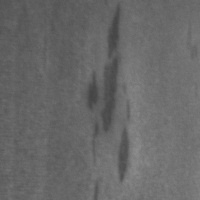inclusion: (85, 2, 124, 165), (112, 96, 135, 185), (82, 67, 103, 114), (176, 21, 198, 61), (89, 176, 101, 199)
